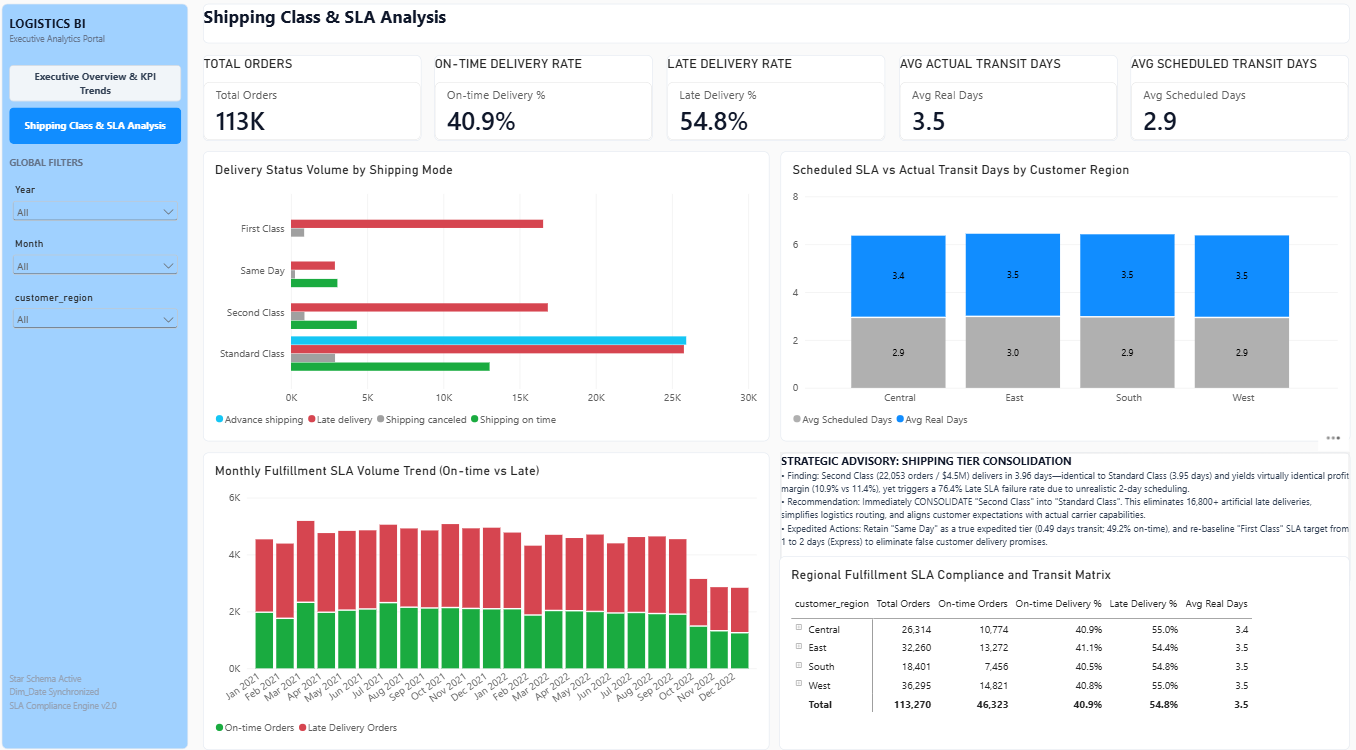

This screenshot's page, from the dashboard's own definition file:
{"tool":"powerbi","page":{"name":"Shipping Class & SLA Analysis","canvas":[1920,1080],"ordinal":1},"visuals":[{"type":"textbox","box":[20,20,260,1040],"z":100},{"type":"textbox","box":[30,35,240,55],"z":500},{"type":"textbox","box":[30,230,240,30],"z":500},{"type":"textbox","box":[30,950,240,90],"z":500},{"type":"textbox","box":[300,20,1600,55],"z":1000},{"type":"pageNavigator","box":[30,105,240,110],"z":1000},{"type":"slicer","fields":{"Values":["Dim_Date.Year"]},"box":[30,270,240,65],"z":1000},{"type":"slicer","fields":{"Values":["Dim_Date.Month"]},"box":[30,345,240,65],"z":1000},{"type":"slicer","fields":{"Values":["ecommerce_data.customer_region"]},"box":[30,420,240,65],"z":1000},{"type":"cardVisual","title":"TOTAL ORDERS","fields":{"Data":["ecommerce_data.Total Orders"]},"box":[300,90,305,120],"z":2000},{"type":"cardVisual","title":"ON-TIME DELIVERY RATE","fields":{"Data":["ecommerce_data.On-time Delivery %"]},"box":[623,90,305,120],"z":2000},{"type":"cardVisual","title":"LATE DELIVERY RATE","fields":{"Data":["ecommerce_data.Late Delivery %"]},"box":[947,90,305,120],"z":2000},{"type":"cardVisual","title":"AVG ACTUAL TRANSIT DAYS","fields":{"Data":["ecommerce_data.Avg Real Days"]},"box":[1271,90,305,120],"z":2000},{"type":"cardVisual","title":"AVG SCHEDULED TRANSIT DAYS","fields":{"Data":["ecommerce_data.Avg Scheduled Days"]},"box":[1595,90,305,120],"z":2000},{"type":"clusteredBarChart","title":"Delivery Status Volume by Shipping Mode","fields":{"Category":["ecommerce_data.shipping_type"],"Series":["ecommerce_data.delivery_status"],"Y":["ecommerce_data.Total Orders"]},"box":[300,225,790,405],"z":3000},{"type":"columnChart","title":"Scheduled SLA vs Actual Transit Days by Customer Region","fields":{"Category":["ecommerce_data.customer_region"],"Y":["ecommerce_data.Avg Scheduled Days","ecommerce_data.Avg Real Days"]},"box":[1105,225,795,405],"z":3000},{"type":"columnChart","title":"Monthly Fulfillment SLA Volume Trend (On-time vs Late)","fields":{"Category":["Dim_Date.MonthYear"],"Y":["ecommerce_data.On-time Orders","ecommerce_data.Late Delivery Orders"]},"box":[300,645,790,415],"z":3000},{"type":"textbox","box":[1105,645,795,185],"z":3000},{"type":"pivotTable","title":"Regional Fulfillment SLA Compliance and Transit Matrix","fields":{"Rows":["ecommerce_data.customer_region","ecommerce_data.shipping_type"],"Values":["ecommerce_data.Total Orders","ecommerce_data.On-time Orders","ecommerce_data.On-time Delivery %","ecommerce_data.Late Delivery %","ecommerce_data.Avg Real Days"]},"box":[1104.2,789.4,796.2,270.5],"z":3000}]}

Visuals, with their boxes on the page's 1920x1080 design canvas (x1, y1, x2, y2). These are canvas units, not pixel positions in the 1356x750 screenshot, which may show the page scaled, cropped or inside an application window:
textbox: Rect(20, 20, 280, 1060)
textbox: Rect(30, 35, 270, 90)
textbox: Rect(30, 230, 270, 260)
textbox: Rect(30, 950, 270, 1040)
textbox: Rect(300, 20, 1900, 75)
pageNavigator: Rect(30, 105, 270, 215)
slicer - Dim_Date.Year: Rect(30, 270, 270, 335)
slicer - Dim_Date.Month: Rect(30, 345, 270, 410)
slicer - ecommerce_data.customer_region: Rect(30, 420, 270, 485)
"TOTAL ORDERS" cardVisual: Rect(300, 90, 605, 210)
"ON-TIME DELIVERY RATE" cardVisual: Rect(623, 90, 928, 210)
"LATE DELIVERY RATE" cardVisual: Rect(947, 90, 1252, 210)
"AVG ACTUAL TRANSIT DAYS" cardVisual: Rect(1271, 90, 1576, 210)
"AVG SCHEDULED TRANSIT DAYS" cardVisual: Rect(1595, 90, 1900, 210)
"Delivery Status Volume by Shipping Mode" clusteredBarChart: Rect(300, 225, 1090, 630)
"Scheduled SLA vs Actual Transit Days by Customer Region" columnChart: Rect(1105, 225, 1900, 630)
"Monthly Fulfillment SLA Volume Trend (On-time vs Late)" columnChart: Rect(300, 645, 1090, 1060)
textbox: Rect(1105, 645, 1900, 830)
"Regional Fulfillment SLA Compliance and Transit Matrix" pivotTable: Rect(1104, 789, 1900, 1060)
